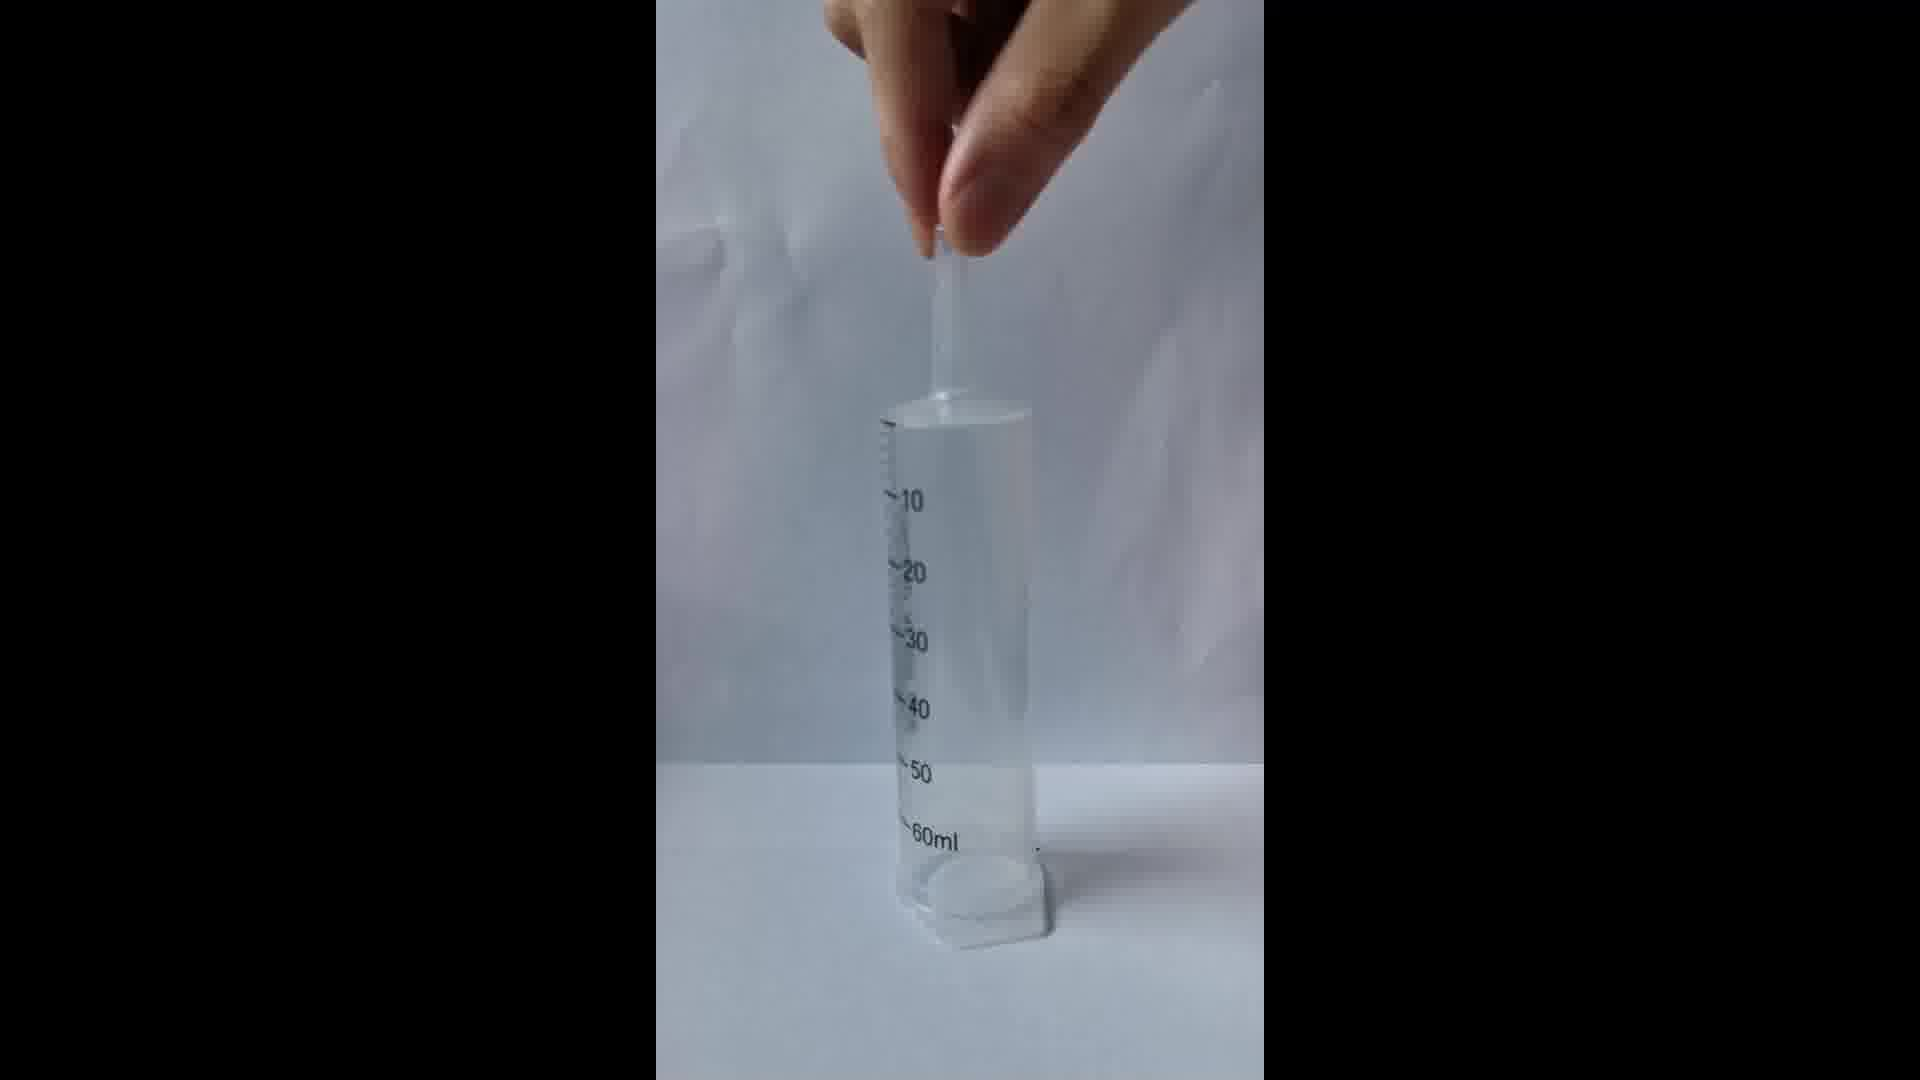syringe: (874, 260, 1084, 955)
